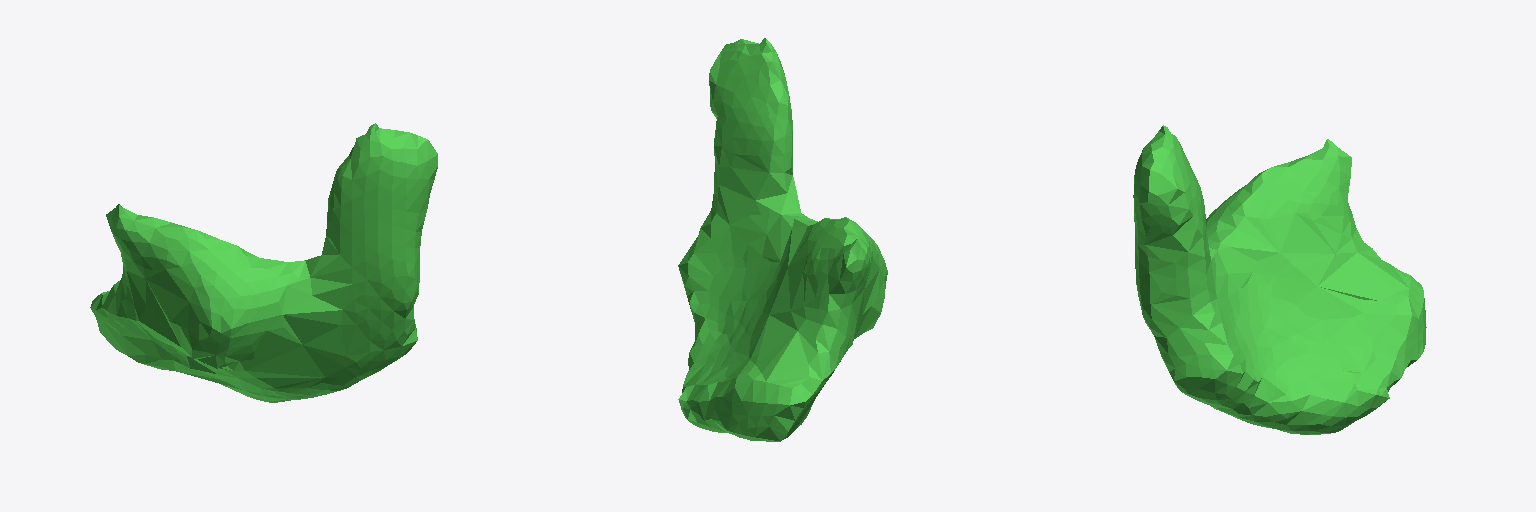
File: Model_220_RH__Substantia_nigra__compact_part_(SNC).obj
3 views of the same model, side by side, from view 1: azimuth 30°, elevation 25°; view 2: azimuth 150°, elevation 25°; view 3: azimuth 270°, elevation 25° (orthographic).
Size of the model in its own units: 1.49 by 1.93 by 1.6.